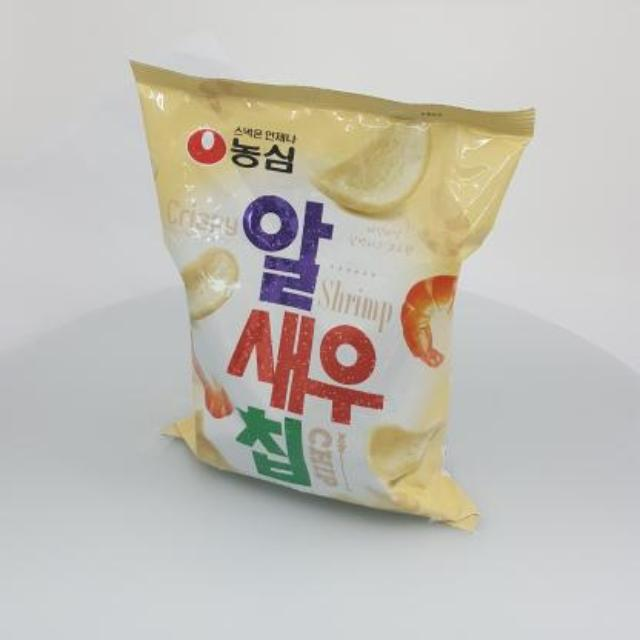snack_bag: (122, 41, 548, 545)
